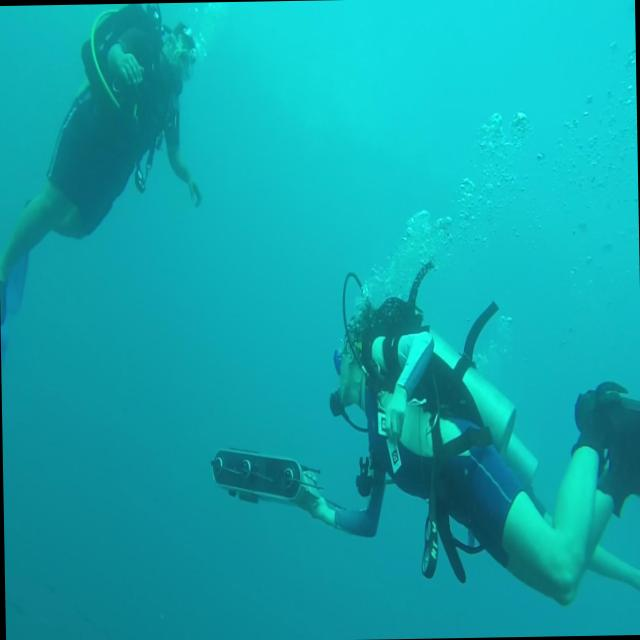human: (207, 254, 640, 611), (0, 2, 204, 327)
